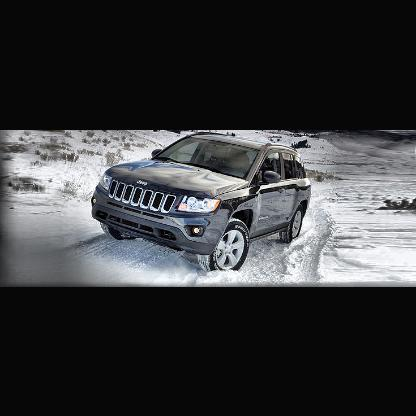Jeep Compass SUV 2012: (91, 130, 314, 276)
